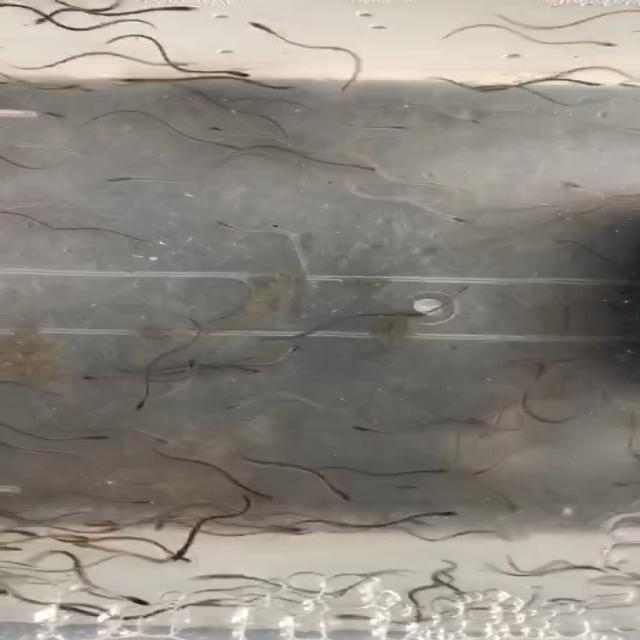active_glass_eel: (242, 16, 302, 41), (388, 300, 442, 324), (209, 209, 252, 238), (99, 163, 143, 191), (14, 108, 76, 126), (152, 3, 211, 20), (122, 593, 171, 613), (350, 157, 392, 180), (46, 78, 101, 95), (51, 600, 101, 618), (34, 535, 100, 548), (315, 492, 365, 509), (605, 73, 640, 97), (219, 136, 259, 157), (586, 36, 638, 52), (467, 422, 503, 445), (344, 424, 394, 440), (108, 45, 146, 64), (572, 75, 612, 93), (71, 373, 122, 387), (139, 432, 186, 447), (176, 356, 208, 378), (186, 572, 230, 588), (130, 394, 160, 417), (120, 493, 160, 510), (165, 555, 221, 567), (465, 82, 504, 99), (426, 212, 473, 226), (225, 65, 263, 82), (230, 361, 270, 377), (114, 74, 159, 88), (523, 361, 558, 379), (569, 562, 608, 578), (19, 17, 70, 29), (489, 528, 526, 544), (404, 612, 436, 630), (322, 610, 358, 626), (0, 544, 47, 556), (417, 510, 465, 521), (148, 550, 192, 562), (81, 433, 118, 447), (199, 118, 226, 137), (220, 398, 248, 416), (246, 490, 278, 504), (462, 464, 490, 480), (0, 439, 37, 451), (425, 466, 454, 481), (148, 518, 172, 533), (90, 526, 126, 536), (560, 180, 589, 192)
